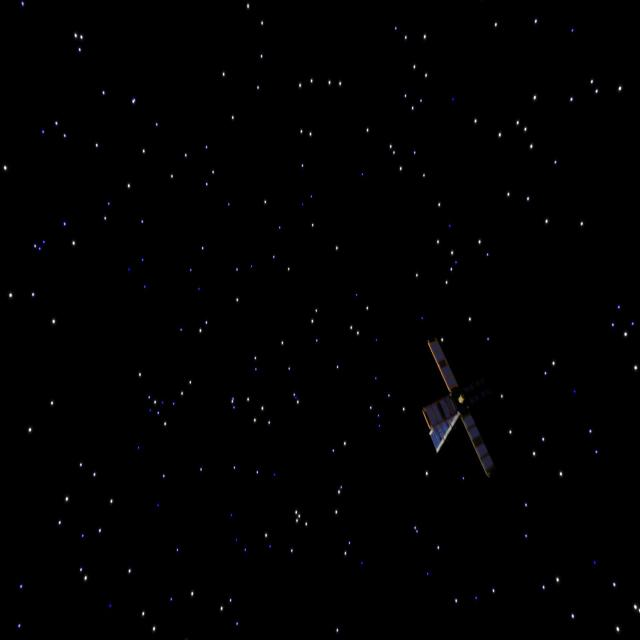satellite: (408, 340, 511, 482)
